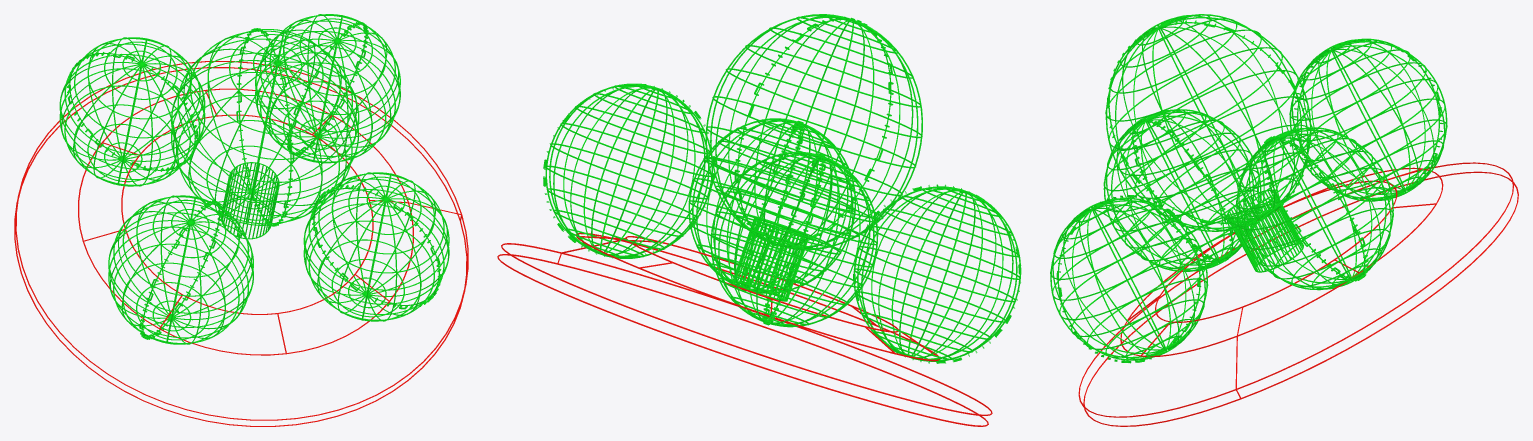
Rendered from asteroid-engines-highlight-fixed-asteroid-mount.glb.
3 views of the same model, side by side, from view 1: azimuth 30°, elevation 25°; view 2: azimuth 150°, elevation 25°; view 3: azimuth 270°, elevation 25° (orthographic). The views are drawn at different scales.
Visible parts, largest first — view 1: opposing-generator-pairs technical wire, central-gravitic-reactor technical wire, fixed-asteroid-mount technical wire, chassis technical wire; view 2: opposing-generator-pairs technical wire, central-gravitic-reactor technical wire, fixed-asteroid-mount technical wire, chassis technical wire; view 3: opposing-generator-pairs technical wire, central-gravitic-reactor technical wire, fixed-asteroid-mount technical wire, chassis technical wire.
Boxes of the visible parts, x1,y1,x2,y2 form: opposing-generator-pairs technical wire: (59,14,449,344); central-gravitic-reactor technical wire: (171,28,359,226); fixed-asteroid-mount technical wire: (14,61,468,426); chassis technical wire: (221,162,279,239); opposing-generator-pairs technical wire: (543,83,1021,363); central-gravitic-reactor technical wire: (705,14,922,250); fixed-asteroid-mount technical wire: (497,233,992,426); chassis technical wire: (732,218,808,301); opposing-generator-pairs technical wire: (1050,38,1447,363); central-gravitic-reactor technical wire: (1105,14,1311,231); fixed-asteroid-mount technical wire: (1078,162,1518,426); chassis technical wire: (1226,189,1303,272).
Size of the model in its own units: 2.7 by 2.26 by 2.61.
